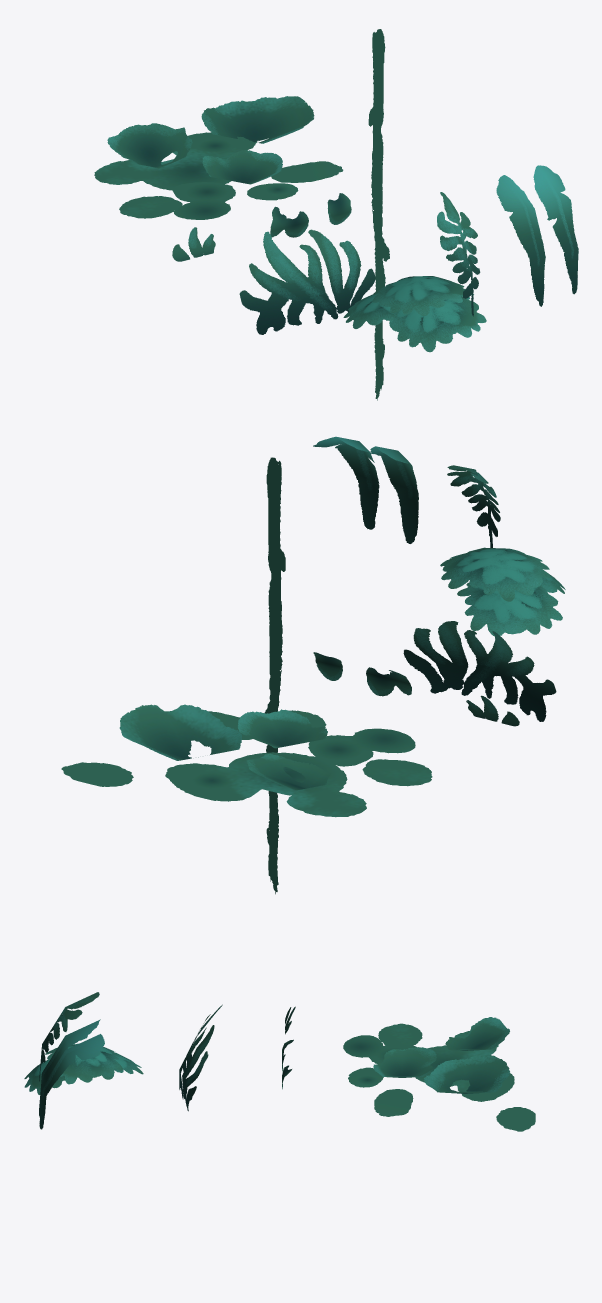
Rendered from veget.fbx.
3 renders of one model, top to bottom at view 1: azimuth 30°, elevation 25°; view 2: azimuth 150°, elevation 25°; view 3: azimuth 270°, elevation 25°, orthographic. The views are drawn at different scales.
Visible parts, largest first — view 1: pPlane3, pPlane7, pCone3, pPlane14, pPlane5, pPlane8, pCone2, pPlane10, pPlane4, pPlane11, pPlane1, pCone1 (+4 smaller); view 2: pPlane7, pPlane3, pCone3, pPlane14, pPlane4, pPlane6, pPlane8, pCone1, pPlane11, pPlane10, pCone2, pPlane1 (+2 smaller); view 3: pPlane7, pCone3, pPlane8, pCone1, pCone2, pPlane4, pPlane11, pPlane3, pPlane1, pPlane10, pPlane5.
Boxes of the visible parts, x1,y1,x2,y2 form: pPlane3: [239, 229, 375, 334]; pPlane7: [94, 132, 343, 218]; pCone3: [201, 96, 314, 143]; pPlane14: [368, 29, 389, 400]; pPlane5: [386, 296, 486, 352]; pPlane8: [172, 182, 298, 219]; pCone2: [107, 123, 192, 168]; pPlane10: [496, 175, 545, 306]; pPlane4: [372, 276, 473, 315]; pPlane11: [533, 165, 578, 294]; pPlane1: [437, 192, 480, 316]; pCone1: [202, 150, 282, 184]; pPlane7: [61, 711, 432, 817]; pPlane3: [403, 621, 556, 721]; pCone3: [119, 704, 241, 760]; pPlane14: [264, 457, 285, 894]; pPlane4: [440, 547, 550, 601]; pPlane6: [457, 582, 562, 636]; pPlane8: [289, 710, 415, 766]; pCone1: [238, 709, 327, 748]; pPlane11: [313, 436, 379, 529]; pPlane10: [369, 446, 418, 543]; pCone2: [246, 753, 331, 790]; pPlane1: [447, 465, 500, 547]; pPlane7: [374, 1023, 535, 1131]; pCone3: [423, 1054, 509, 1093]; pPlane8: [343, 1035, 417, 1087]; pCone1: [373, 1047, 436, 1077]; pCone2: [445, 1017, 509, 1050]; pPlane4: [45, 1043, 122, 1084]; pPlane11: [39, 1034, 104, 1129]; pPlane3: [179, 1004, 222, 1111]; pPlane1: [39, 992, 99, 1081]; pPlane10: [39, 1019, 100, 1115]; pPlane5: [24, 1059, 65, 1094].
Size of the model in its own units: 9.14 by 11.88 by 17.78.
Materials: 1 (1 with a texture image).
